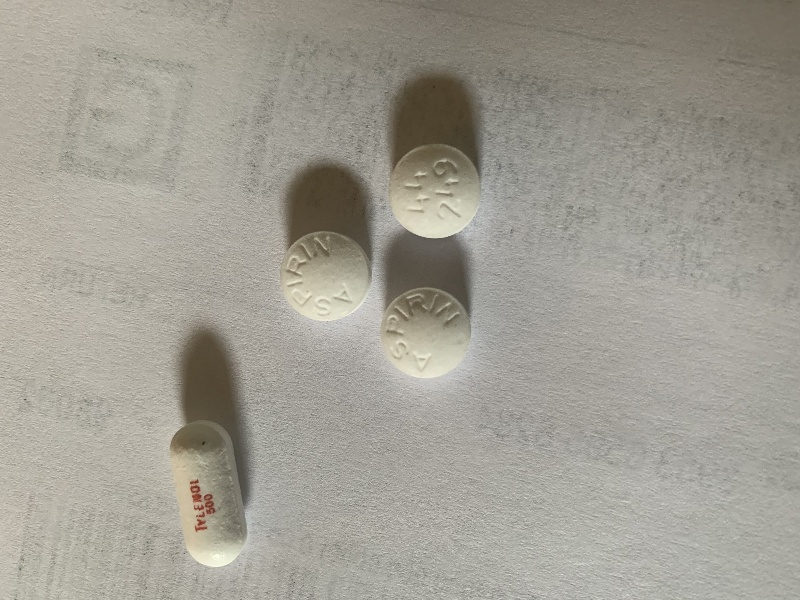Aspirin: (386, 141, 482, 242), (378, 286, 476, 382), (279, 229, 370, 324)
Tylenol: (167, 417, 250, 572)
